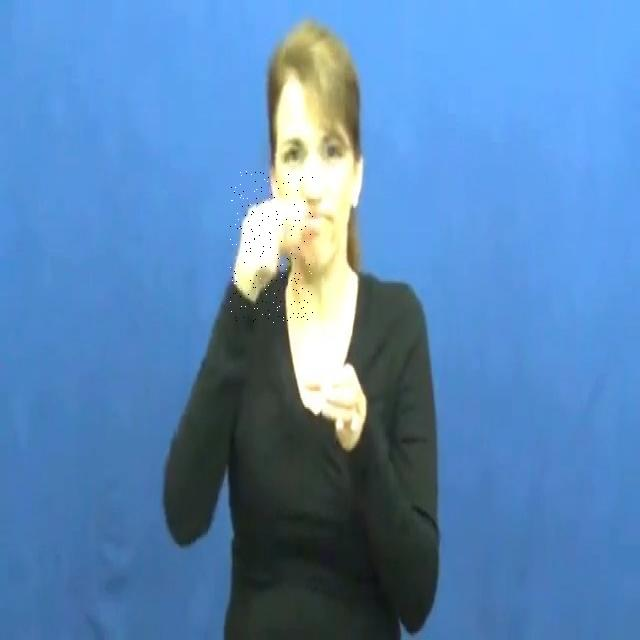straw: (230, 170, 314, 324)
